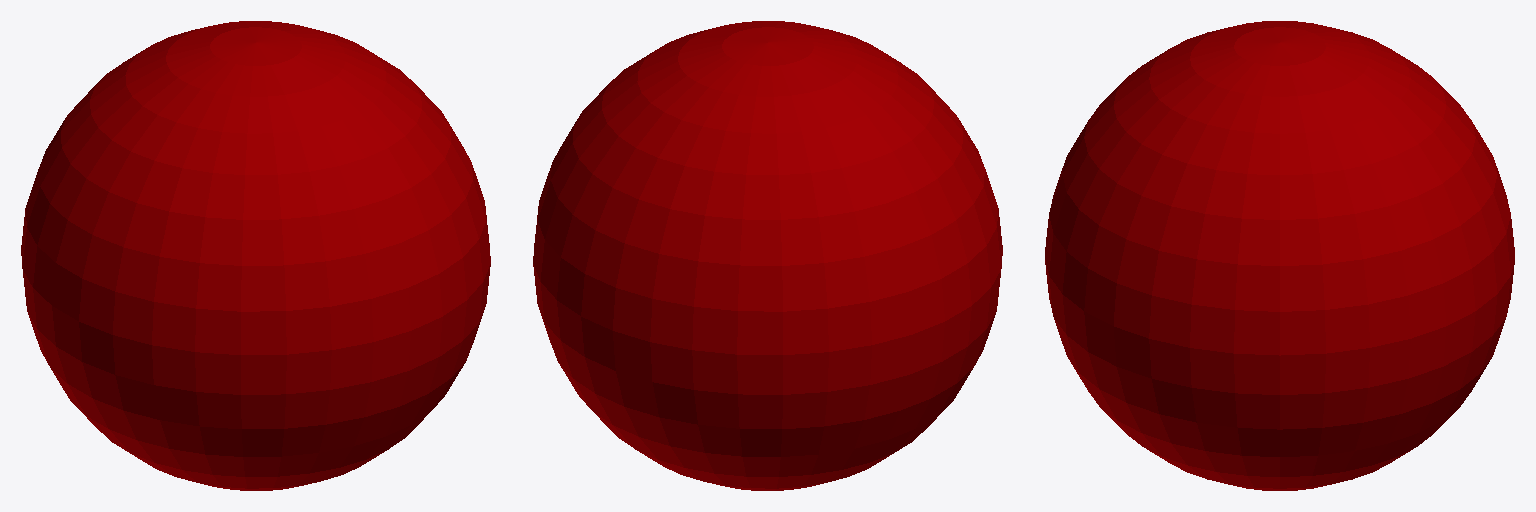
Rendered from redSphere.obj.
3 views of the same model, side by side, from view 1: azimuth 30°, elevation 25°; view 2: azimuth 150°, elevation 25°; view 3: azimuth 270°, elevation 25° (orthographic).
Visible parts, largest first — view 1: Sphere; view 2: Sphere; view 3: Sphere.
Part boxes in pixels (bbox=[...]): Sphere: bbox=[21, 21, 490, 490]; Sphere: bbox=[533, 21, 1002, 490]; Sphere: bbox=[1045, 21, 1514, 490].
Bounding box in the file's own units: 2 × 2 × 2.